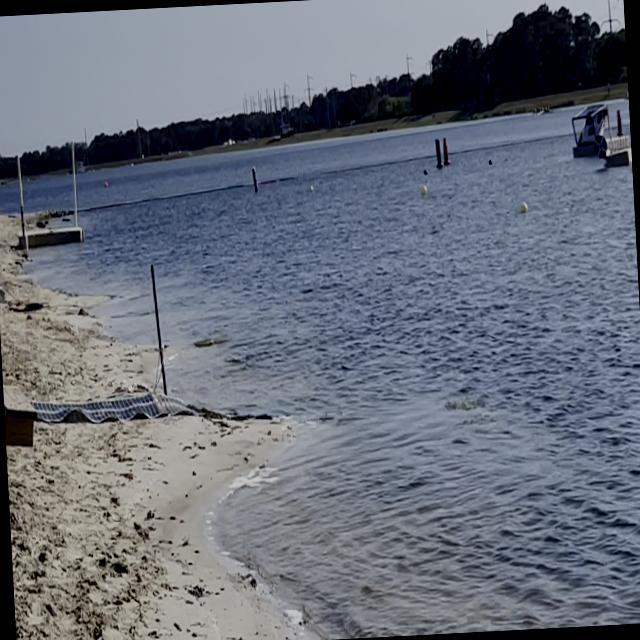buoy: (417, 185, 430, 198), (520, 200, 530, 215), (422, 169, 430, 177), (488, 158, 494, 166)
